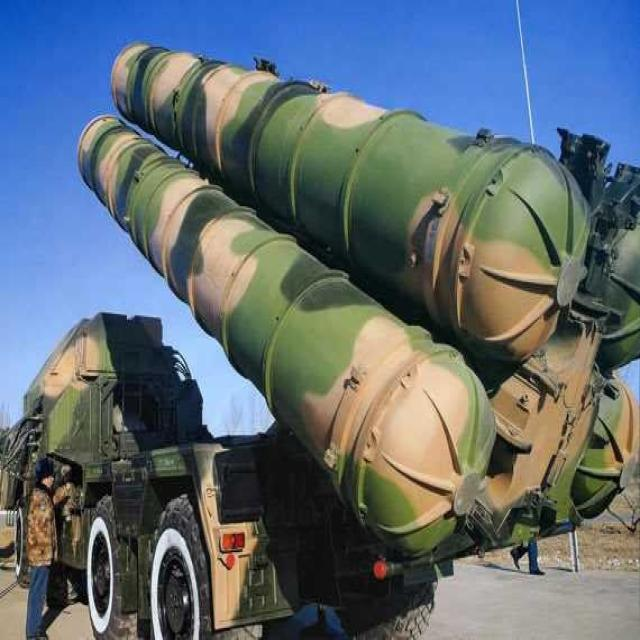missile: (79, 106, 485, 536), (112, 39, 578, 340)
